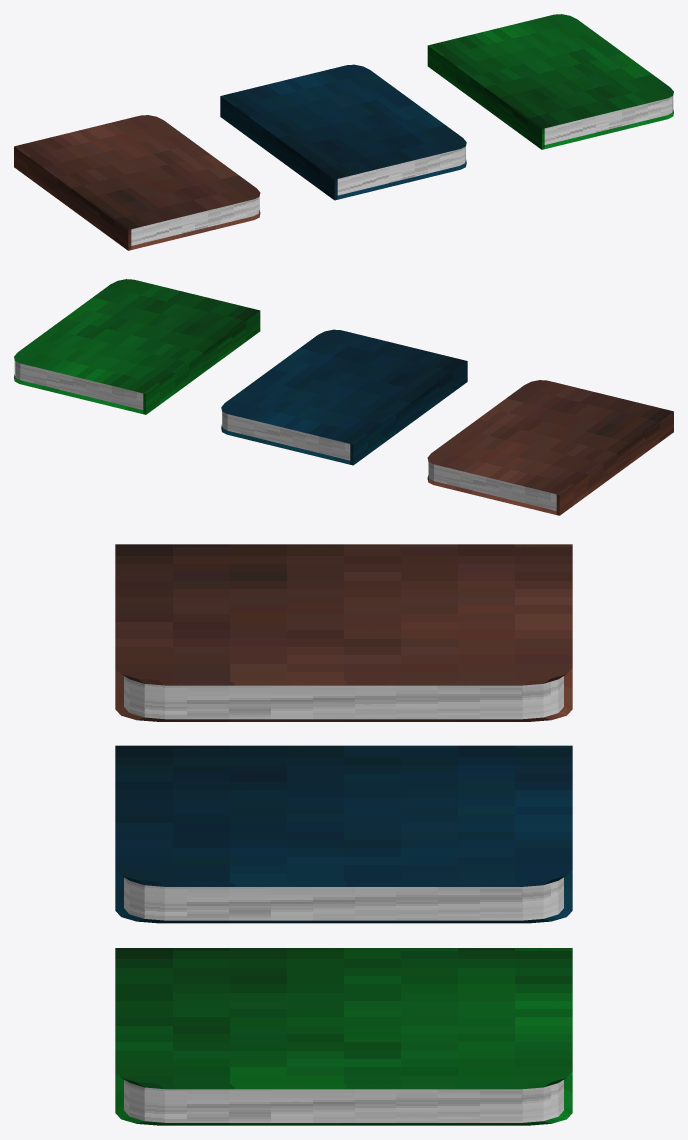
File: book.fbx
3 views of the same model, one above another, from view 1: azimuth 30°, elevation 25°; view 2: azimuth 150°, elevation 25°; view 3: azimuth 270°, elevation 25° (orthographic). The views are drawn at different scales.
Visible parts, largest first — view 1: book_blue, book_green, book; view 2: book_blue, book_green, book; view 3: book_green, book, book_blue.
Boxes of the visible parts, x1,y1,x2,y2 form: book_blue: (427,14,673,149); book_green: (220,64,466,200); book: (14,115,260,250); book_blue: (14,279,260,414); book_green: (221,329,467,465); book: (427,380,673,515); book_green: (115,745,572,923); book: (115,544,572,721); book_blue: (115,948,572,1125).
Bounding box in the file's own units: 125 × 4.51 × 44.8.
4 materials, 4 textured.
